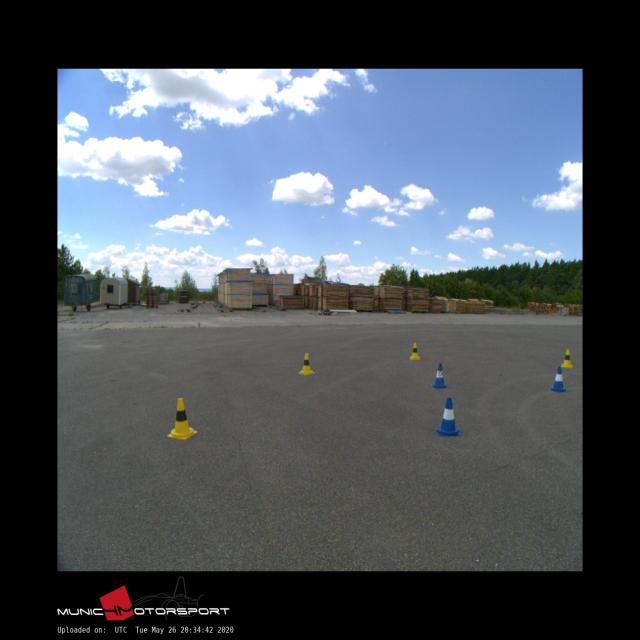blue_cone: (436, 397, 461, 435), (549, 367, 567, 391), (431, 363, 448, 388)
yellow_cone: (167, 398, 197, 438), (298, 352, 315, 374), (560, 348, 572, 368), (409, 343, 420, 360)
